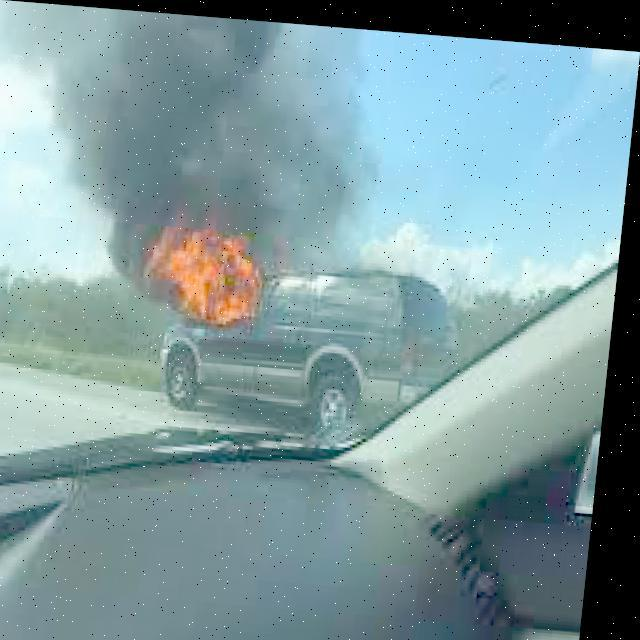Fire: (123, 204, 281, 330)
